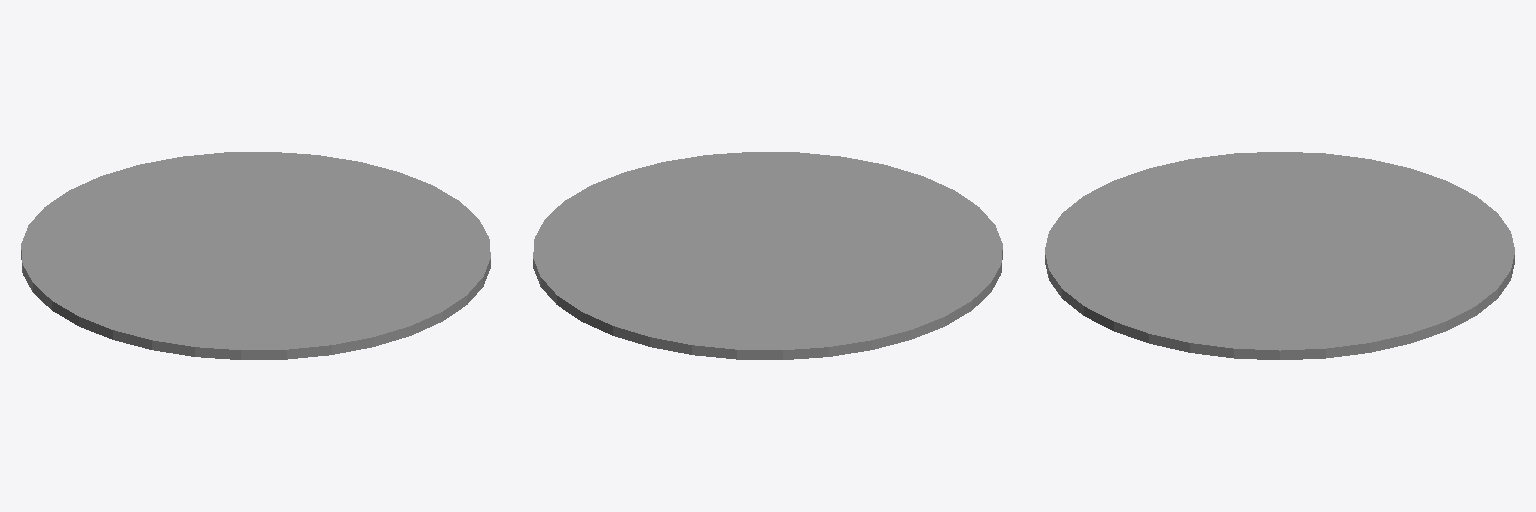
File: hangiriRijst.obj
3 views of the same model, side by side, from view 1: azimuth 30°, elevation 25°; view 2: azimuth 150°, elevation 25°; view 3: azimuth 270°, elevation 25° (orthographic).
Parts seen in each view (by area): view 1: Cylinder.001_Cylinder.002; view 2: Cylinder.001_Cylinder.002; view 3: Cylinder.001_Cylinder.002.
Part boxes in pixels (bbox=[...]): Cylinder.001_Cylinder.002: bbox=[21, 152, 490, 359]; Cylinder.001_Cylinder.002: bbox=[533, 152, 1002, 359]; Cylinder.001_Cylinder.002: bbox=[1045, 152, 1514, 359].
Size of the model in its own units: 0.6322 by 0.0147 by 0.6322.